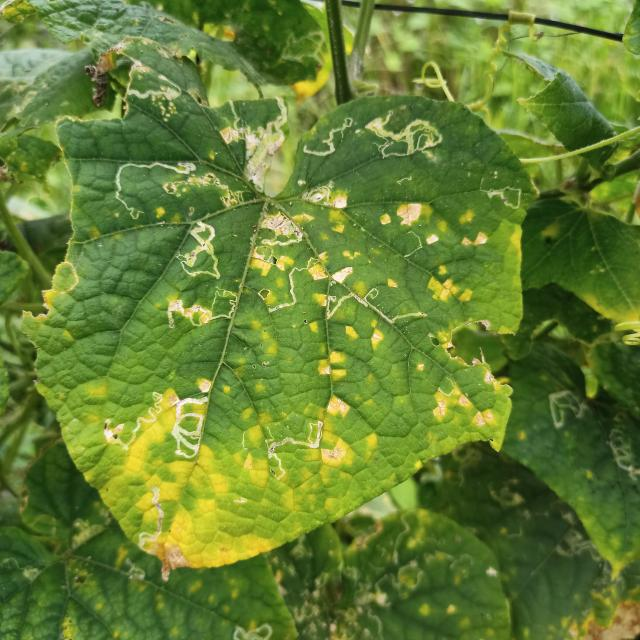disease_cucumber: (251, 185, 512, 462), (110, 374, 389, 580)
